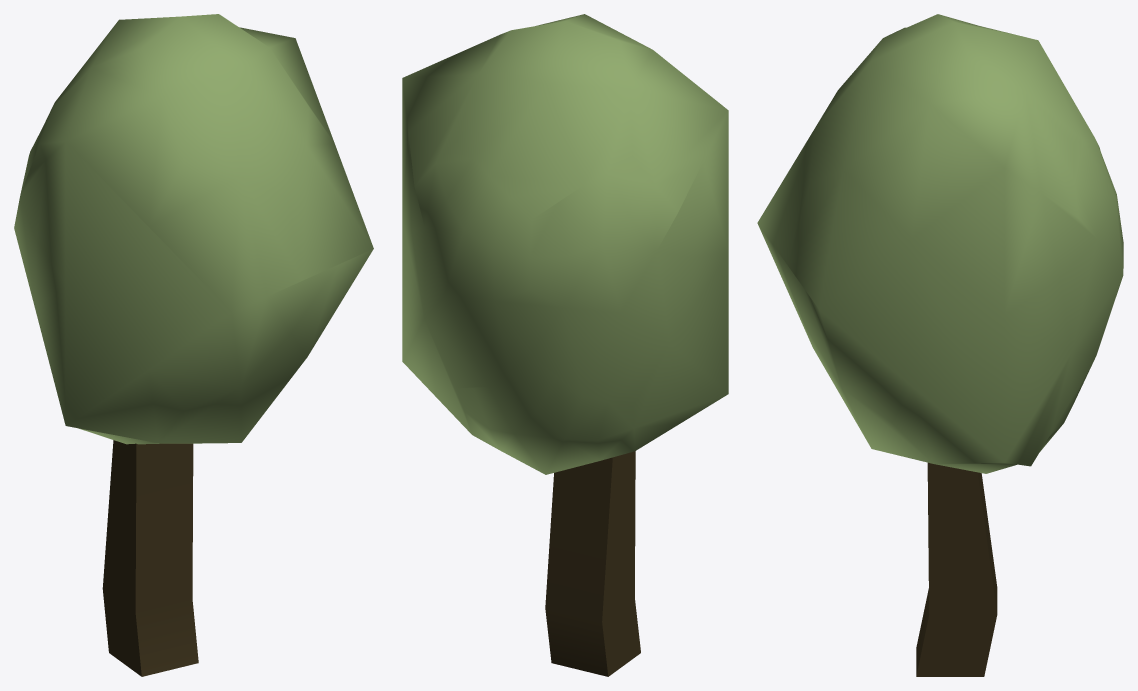
The model's file is Bulet tree.fbx.
3 renders of one model, left to right at view 1: azimuth 30°, elevation 25°; view 2: azimuth 150°, elevation 25°; view 3: azimuth 270°, elevation 25°, orthographic. The views are drawn at different scales.
Parts seen in each view (by area): view 1: pasted__pasted__pasted__pasted__pasted__pPlatonic1, pasted__pasted__pCube1; view 2: pasted__pasted__pasted__pasted__pasted__pPlatonic1, pasted__pasted__pCube1; view 3: pasted__pasted__pasted__pasted__pasted__pPlatonic1, pasted__pasted__pCube1.
Boxes of the visible parts, x1,y1,x2,y2 form: pasted__pasted__pasted__pasted__pasted__pPlatonic1: (14,14,373,444); pasted__pasted__pCube1: (102,440,198,676); pasted__pasted__pasted__pasted__pasted__pPlatonic1: (402,14,728,474); pasted__pasted__pCube1: (545,451,640,676); pasted__pasted__pasted__pasted__pasted__pPlatonic1: (757,14,1123,473); pasted__pasted__pCube1: (916,462,997,676).
Size of the model in its own units: 4.89 by 10.62 by 5.38.
